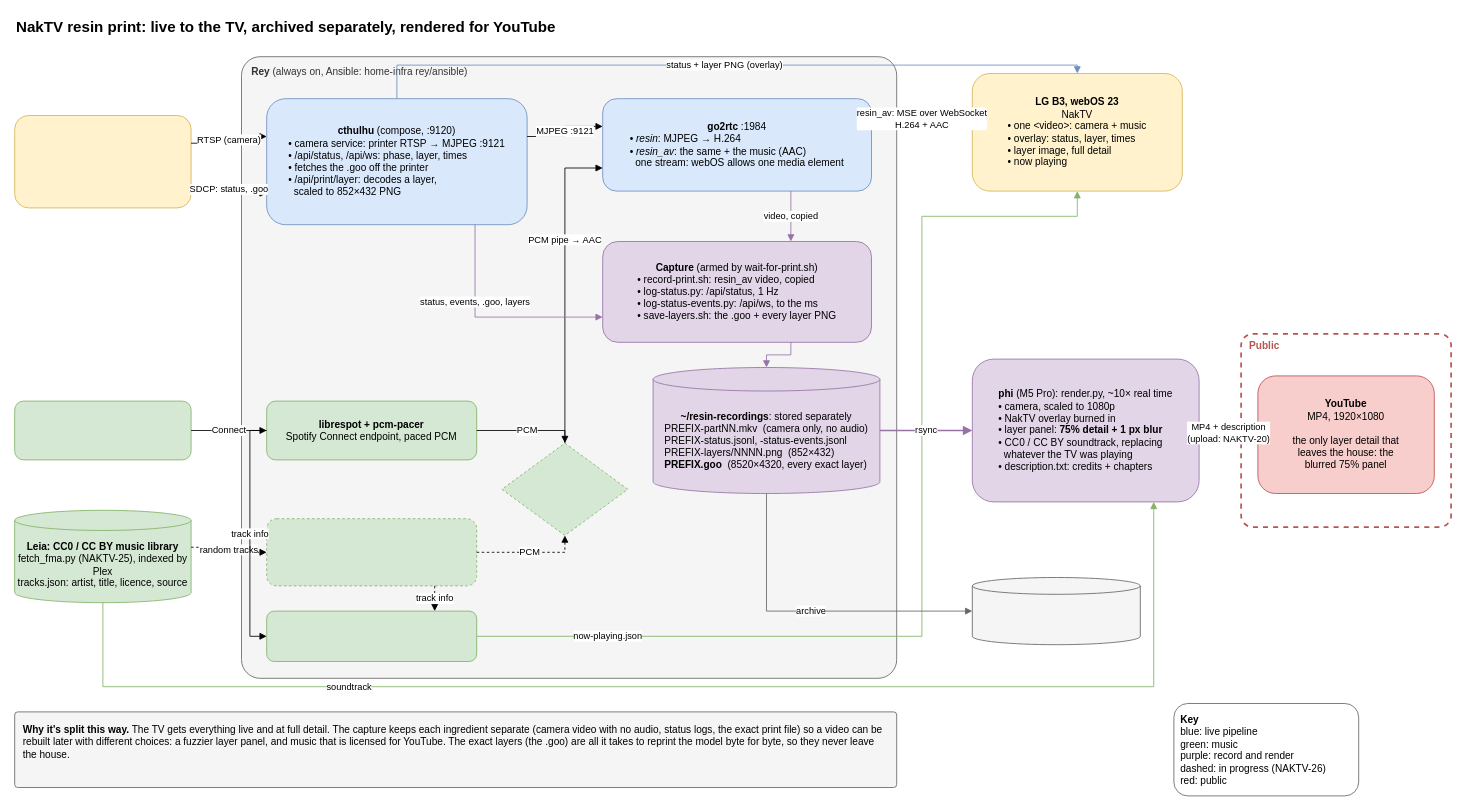
Image size: 1467x811. Some labels were removed from this diagram. The shapes that lost their labels are listed below. From the top down, each one's centre as x and y in pixels, then its label:
(x=102, y=161): Elegoo Mars 5 Ultra 172.29.0.37 camera: RTSP :554 status + print file: SDCP
(x=102, y=430): Spotify phone / laptop picks "NakTV" in Connect
(x=564, y=489): music-switch Spotify or library NAKTV-26
(x=371, y=552): library-player + pcm-pacer random tracks, logs each play NAKTV-26, in progress
(x=1055, y=611): Luke / Leia archive, at leisure
(x=371, y=636): now-playing server :1985 artist + track for the overlay
